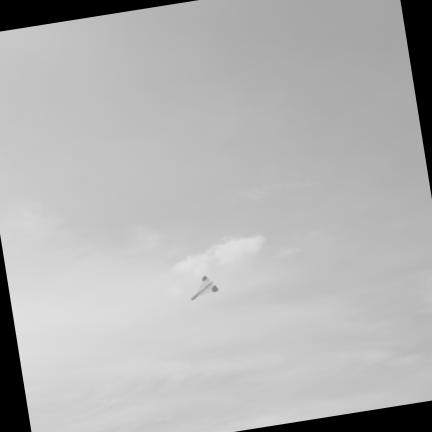Shahed: (192, 276, 219, 299)
